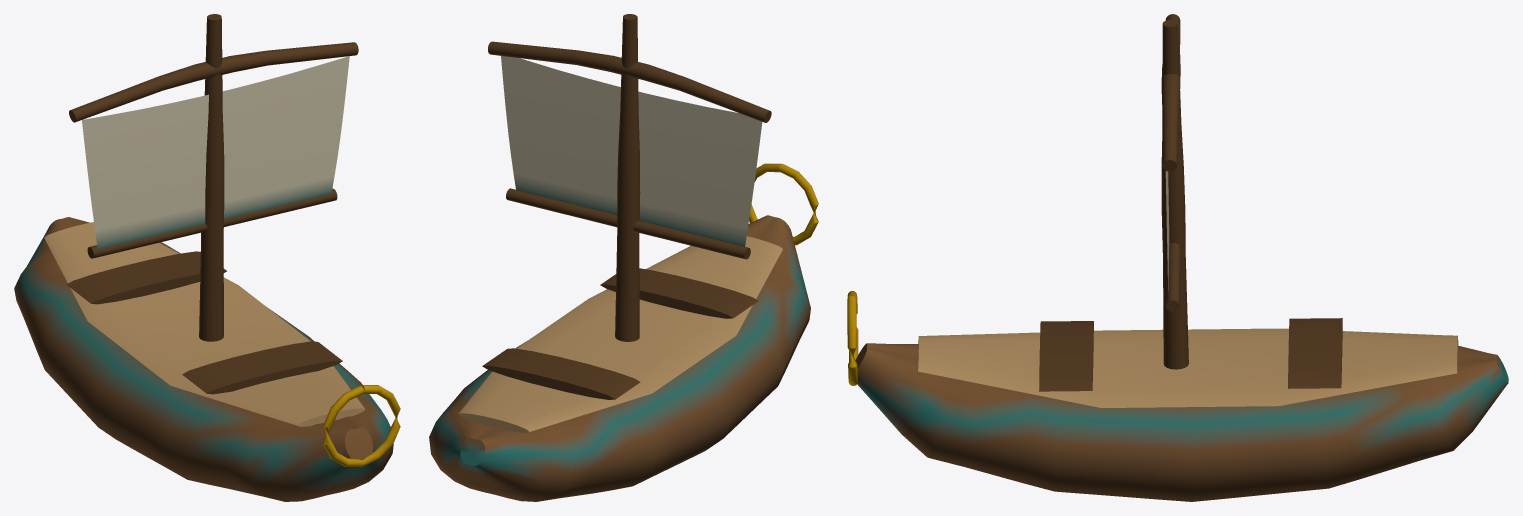
The model's file is ship-zksrt40s.glb.
The picture shows the model from 3 angles, left to right: view 1: azimuth 30°, elevation 25°; view 2: azimuth 150°, elevation 25°; view 3: azimuth 270°, elevation 25°; orthographic projection. The views are drawn at different scales.
Parts seen in each view (by area): view 1: Ship; view 2: Ship; view 3: Ship.
Boxes of the visible parts, left/top/right/bottom form: Ship: left=14, top=14, right=400, bottom=501; Ship: left=429, top=14, right=818, bottom=501; Ship: left=847, top=14, right=1508, bottom=501.
Bounding box in the file's own units: 1.17 × 1.67 × 2.23.
